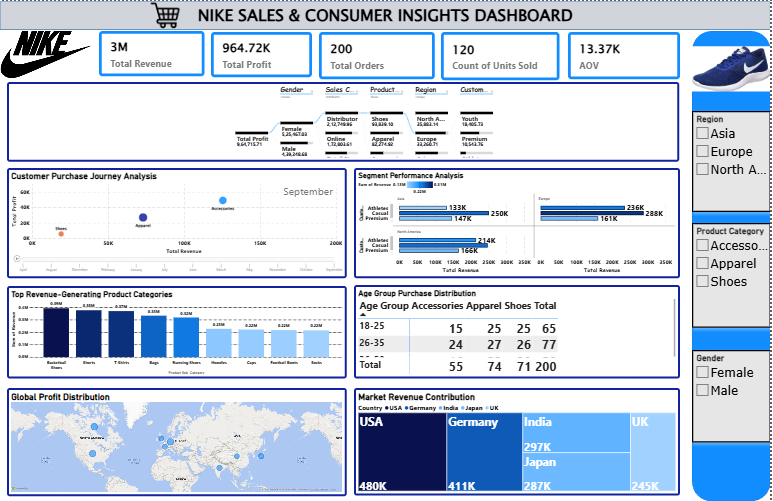

The page's visual inventory and layout, read from the dashboard file:
{"tool":"powerbi","page":{"name":"Page 1","canvas":[3081,2000],"ordinal":0},"visuals":[{"type":"shape","box":[0,0,3081.5,114.8],"z":0},{"type":"shape","box":[2766.7,118.5,314.8,1881.5],"z":1000},{"type":"cardVisual","fields":{"Data":["Nike Sales Data.Total Revenue"]},"box":[396.3,118.5,422.2,181.5],"z":2000},{"type":"cardVisual","fields":{"Data":["Nike Sales Data.Total Profit"]},"box":[844.4,122.2,403.7,181.5],"z":3000},{"type":"cardVisual","fields":{"Data":["Nike Sales Data.Total Orders"]},"box":[1274.1,122.2,463,188.9],"z":4000},{"type":"cardVisual","fields":{"Data":["Count(Nike Sales Data.Units Sold)"]},"box":[1763,125.9,474.1,192.6],"z":5000},{"type":"cardVisual","fields":{"Data":["Nike Sales Data.AOV"]},"box":[2270.4,122.2,448.1,188.9],"z":6000},{"type":"lineClusteredColumnComboChart","title":"Top Revenue-Generating Product Categories","fields":{"Y":["Sum(Nike Sales Data.Revenue)"],"Category":["Nike Sales Data.Product Sub-Category"]},"box":[29.6,1140.7,1359.3,370.4],"z":7000},{"type":"map","title":"Global Profit Distribution","fields":{"Category":["Nike Sales Data.Country"],"Size":["Nike Sales Data.Total Profit"]},"box":[29.6,1548.1,1359.3,433.3],"z":8000},{"type":"scatterChart","title":"Customer Purchase Journey Analysis","fields":{"X":["Nike Sales Data.Total Revenue"],"Y":["Nike Sales Data.Total Profit"],"Size":["Nike Sales Data.Total Orders"],"Category":["Nike Sales Data.Product Category"],"Play":["Nike Sales Data.Month"]},"box":[29.6,666.7,1359.3,440.7],"z":9000},{"type":"pivotTable","title":"Age Group Purchase Distribution","fields":{"Rows":["Nike Sales Data.Age Group"],"Columns":["Nike Sales Data.Product Category"],"Values":["Nike Sales Data.Total Orders"]},"box":[1414.8,1137,1303.7,374.1],"z":10000},{"type":"clusteredBarChart","title":"Segment Performance Analysis","fields":{"Category":["Nike Sales Data.Customer Segment"],"Y":["Nike Sales Data.Total Revenue"],"Rows":["Nike Sales Data.Region"]},"box":[1414.8,666.7,1303.7,440.7],"z":11000},{"type":"decompositionTreeVisual","fields":{"Analyze":["Nike Sales Data.Total Profit"],"ExplainBy":["Nike Sales Data.Gender","Nike Sales Data.Sales Channel","Nike Sales Data.Product Category","Nike Sales Data.Region","Nike Sales Data.Customer Segment"]},"box":[29.6,325.9,2688.9,318.5],"z":12000},{"type":"treemap","title":"Market Revenue Contribution","fields":{"Values":["Nike Sales Data.Total Revenue"],"Group":["Nike Sales Data.Country"]},"box":[1414.8,1548.1,1303.7,429.6],"z":13000},{"type":"slicer","fields":{"Values":["Nike Sales Data.Region"]},"box":[2766.7,440.7,314.8,403.7],"z":14000},{"type":"slicer","fields":{"Values":["Nike Sales Data.Product Category"]},"box":[2766.7,888.9,314.8,418.5],"z":15000},{"type":"slicer","fields":{"Values":["Nike Sales Data.Gender"]},"box":[2766.7,1396.3,314.8,370.4],"z":16000},{"type":"image","box":[2766.7,118.5,314.8,303.7],"z":17000},{"type":"image","box":[0,114.8,366.7,196.3],"z":18000},{"type":"image","box":[518.5,0,281.5,114.8],"z":19000}]}

Visuals, with their boxes in screenshot pixels (x1, y1, x2, y2), scaled from the page's 3081x2000 canvas onto the 773x501 screenshot:
shape: [0,0,772,29]
shape: [694,30,772,500]
cardVisual - Nike Sales Data.Total Revenue: [99,30,205,75]
cardVisual - Nike Sales Data.Total Profit: [212,31,313,76]
cardVisual - Nike Sales Data.Total Orders: [320,31,436,78]
cardVisual - Count(Nike Sales Data.Units Sold): [442,32,561,80]
cardVisual - Nike Sales Data.AOV: [570,31,682,78]
"Top Revenue-Generating Product Categories" lineClusteredColumnComboChart: [7,286,348,379]
"Global Profit Distribution" map: [7,388,348,496]
"Customer Purchase Journey Analysis" scatterChart: [7,167,348,277]
"Age Group Purchase Distribution" pivotTable: [355,285,682,379]
"Segment Performance Analysis" clusteredBarChart: [355,167,682,277]
decompositionTreeVisual - Nike Sales Data.Total Profit x Nike Sales Data.Gender: [7,82,682,161]
"Market Revenue Contribution" treemap: [355,388,682,495]
slicer - Nike Sales Data.Region: [694,110,772,212]
slicer - Nike Sales Data.Product Category: [694,223,772,328]
slicer - Nike Sales Data.Gender: [694,350,772,443]
image: [694,30,772,106]
image: [0,29,92,78]
image: [130,0,201,29]
